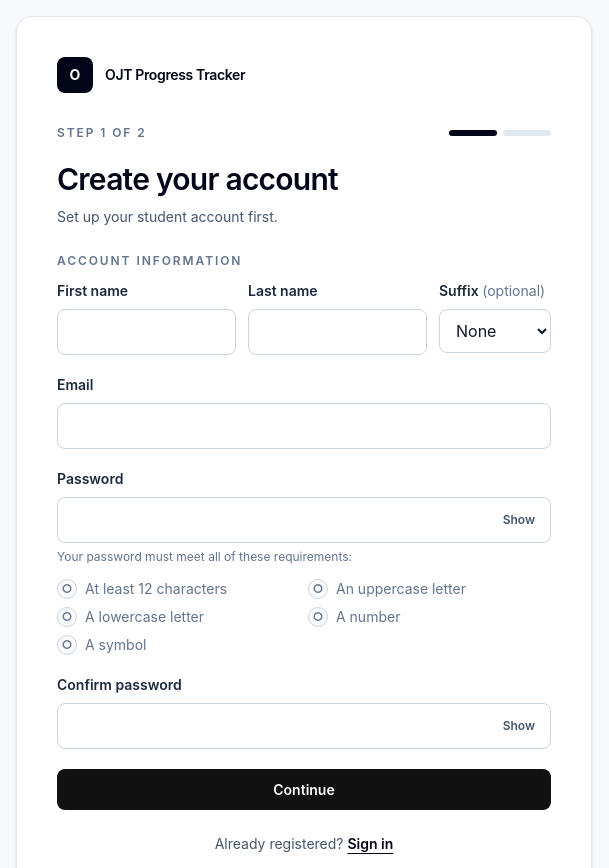
RegisterView › returns to account setup with values intact when Back is clicked
This screenshot has width=609, height=868.
In the field with id "register-first-name": (146, 332) [57,309,236,355], type "New"
In the field with id "register-last-name": (338, 332) [248,309,427,355], type "Student"
Select "Jr." in the dropdown with id "register-suffix": (495, 331) [439,309,551,353]
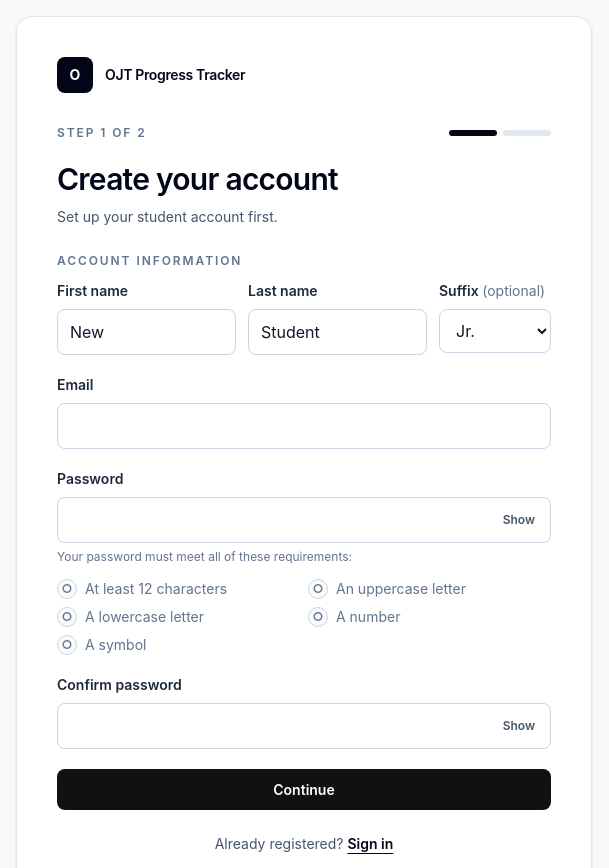
In the field with id "register-email": (304, 426) [57,403,551,449], type "new@example.com"
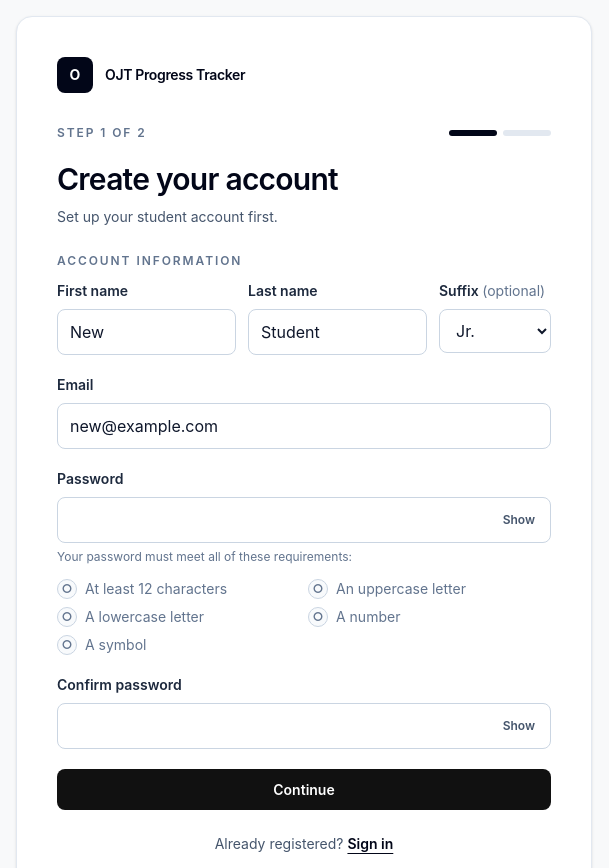
In the password field with id "register-password": (304, 520) [57,497,551,543], type "StrongPassword1!"
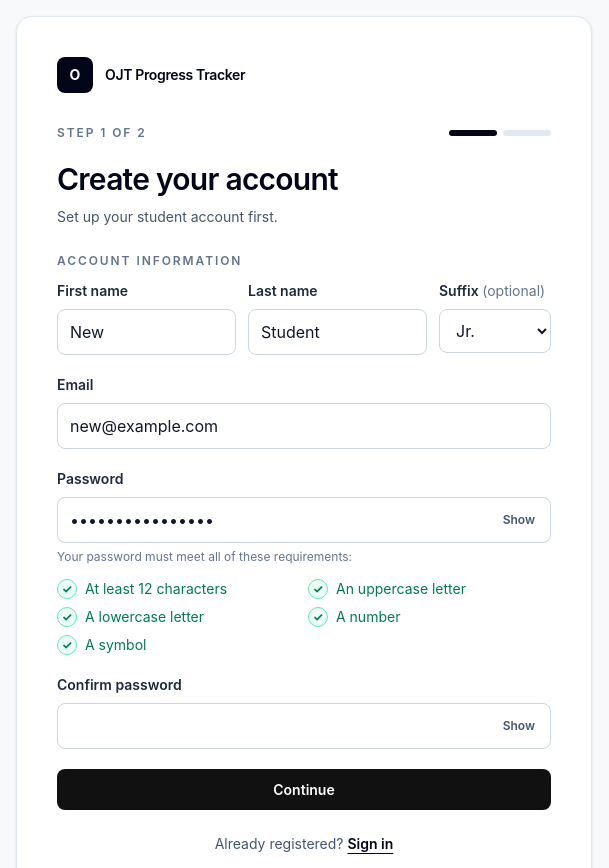
In the password field with id "register-password-confirmation": (304, 726) [57,703,551,749], type "StrongPassword1!"
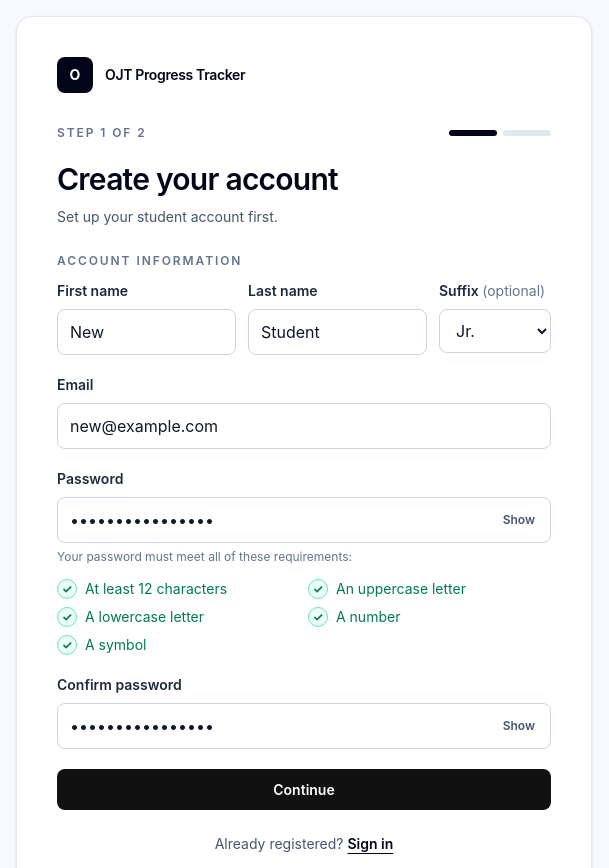
Submit the form with test id "account-setup-form", box [57,281,551,810]
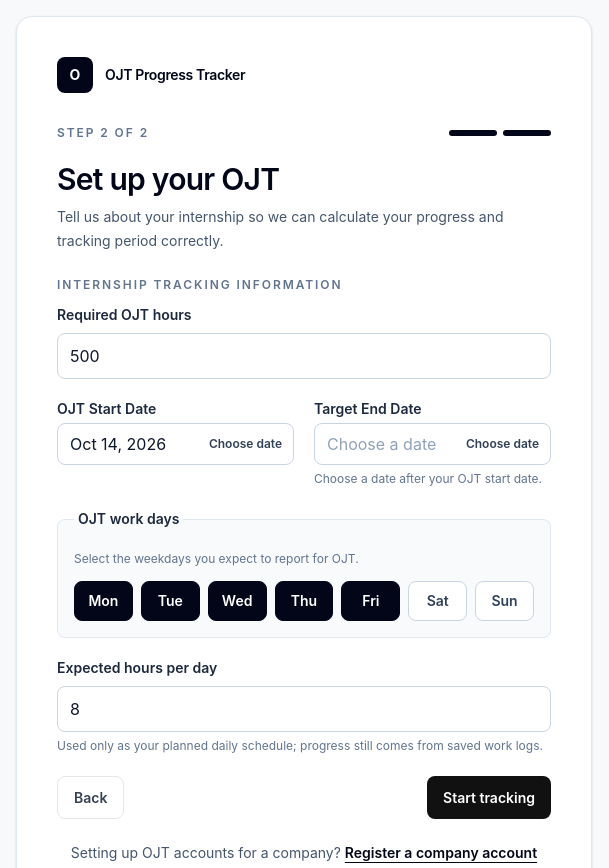
Click the button with test id "back-registration": click(91, 798) [57,776,124,819]
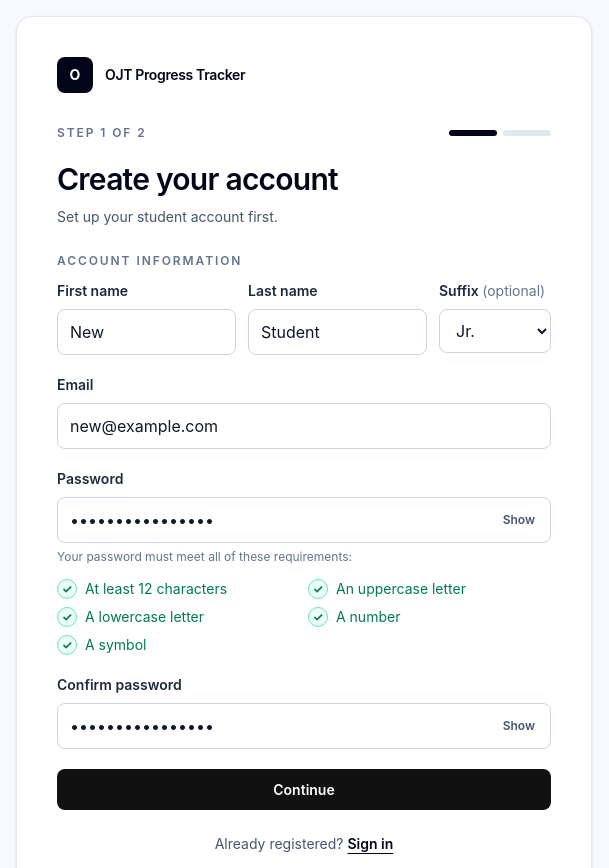
Check: the field with id "register-first-name" holds "New", box [57,309,236,355]
Check: the field with id "register-last-name" holds "Student", box [248,309,427,355]
Check: the dropdown with id "register-suffix" shows "Jr.", box [439,309,551,353]
